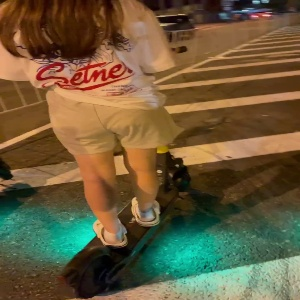human on a scooter: (1, 1, 207, 296)
